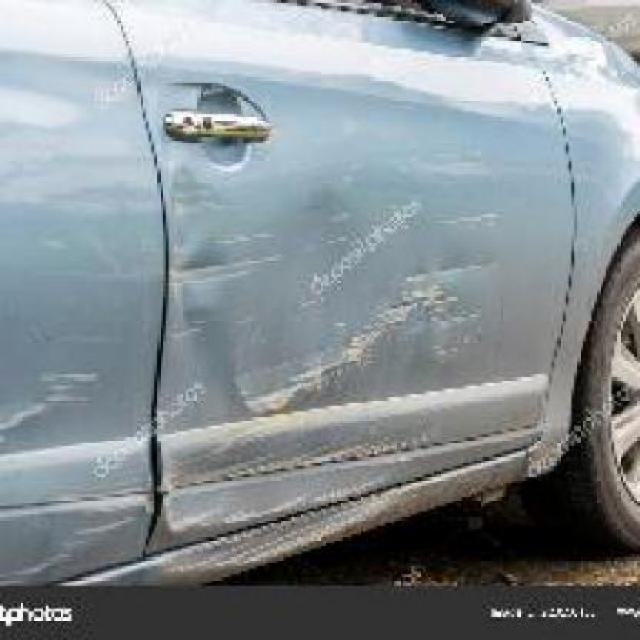dent-or-scratch: (187, 194, 481, 398)
